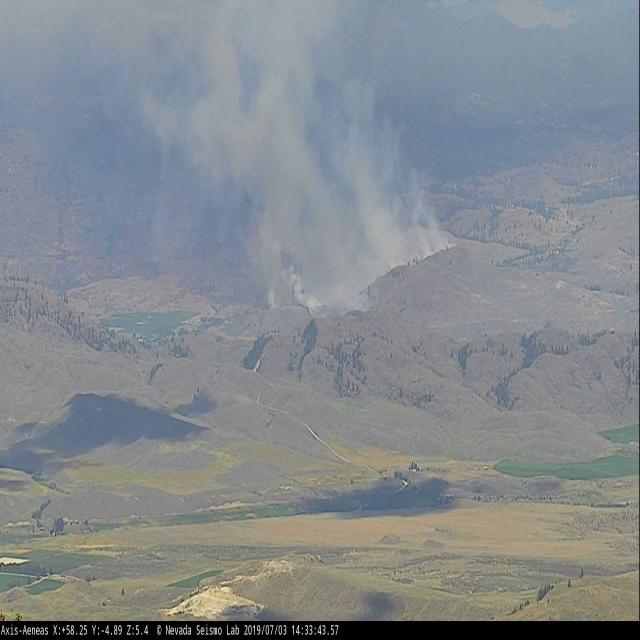smoke: (102, 0, 464, 310)
